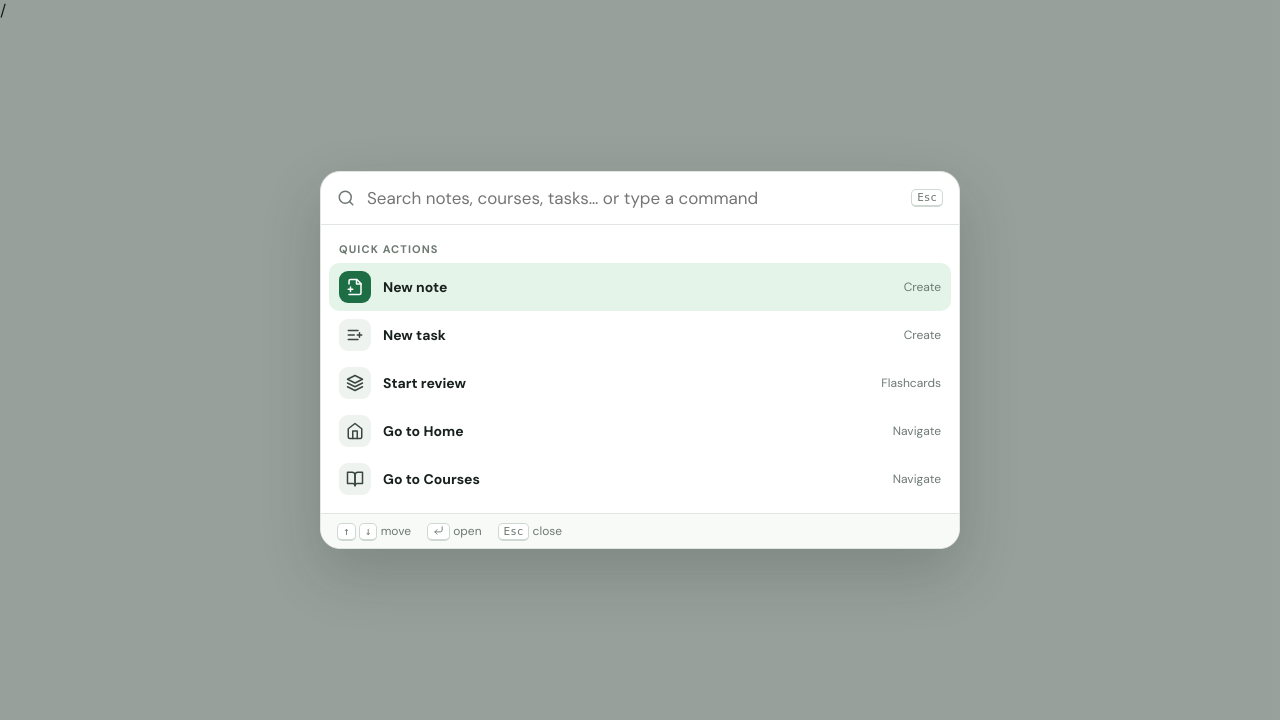
Scenario: CommandPalette › says so when nothing matches
Type "zzz" into the dropdown at (633, 198), box [365,186,901,210]
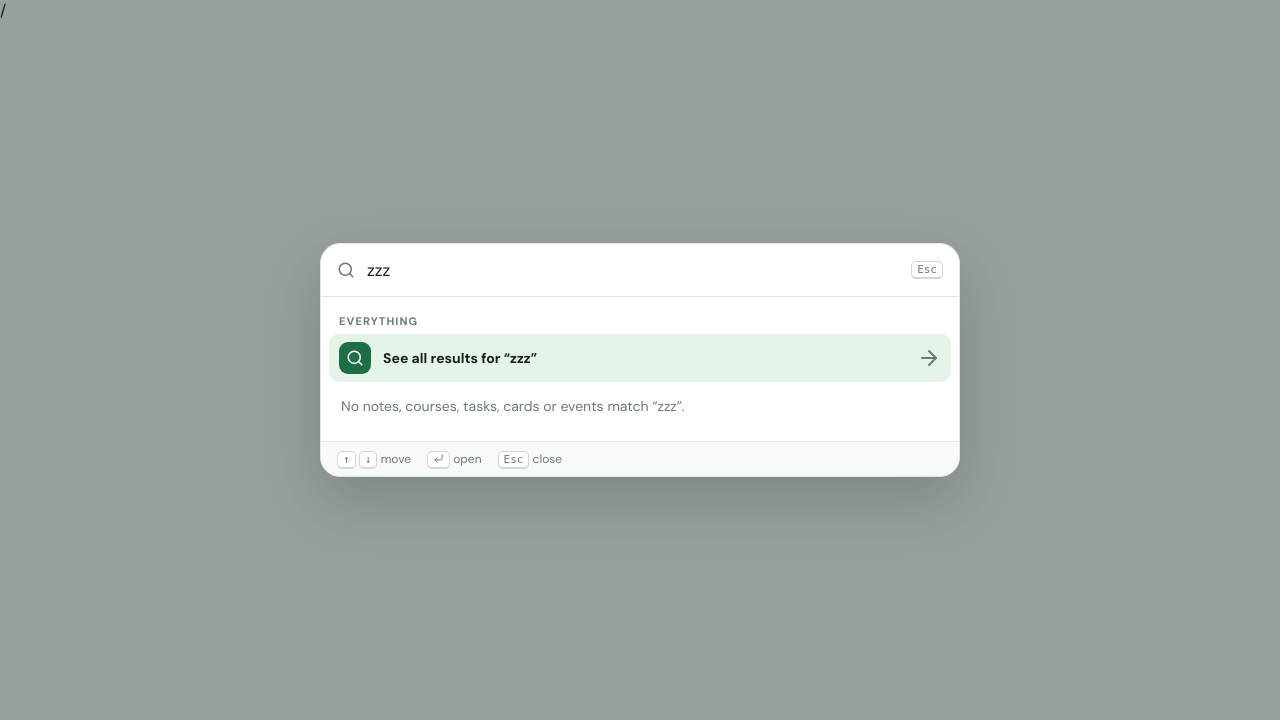
expect the text "No notes, courses, tasks, cards or events match “zzz”." is shown: met, box [341,397,685,415]
